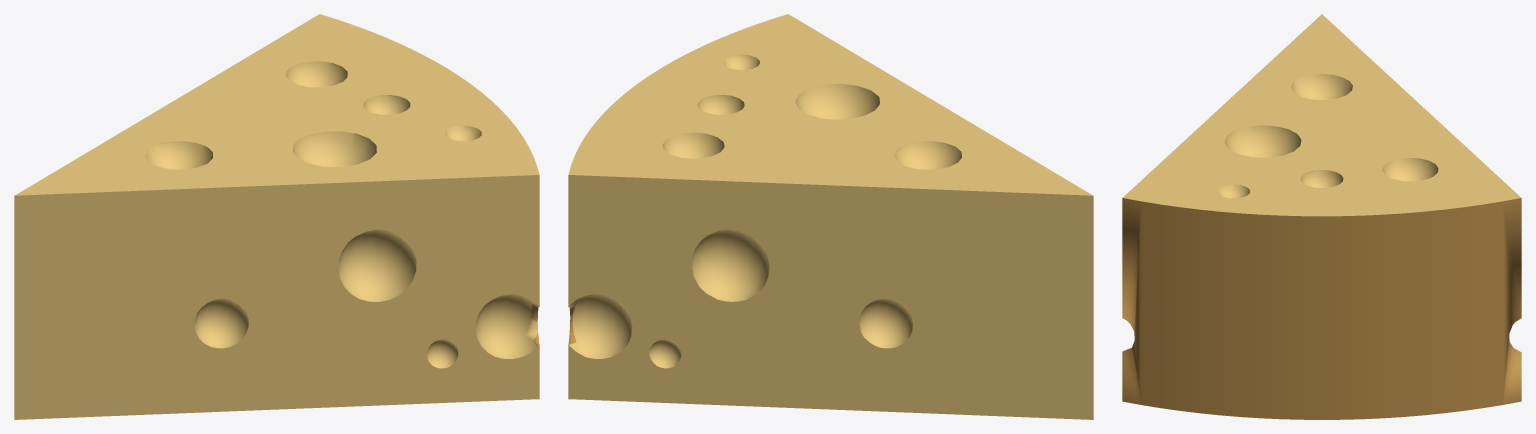
3 renders of one model, left to right at view 1: azimuth 30°, elevation 25°; view 2: azimuth 150°, elevation 25°; view 3: azimuth 270°, elevation 25°, orthographic. The views are drawn at different scales.
Visible parts, largest first — view 1: NEW307_SwissCheese_LOD2; view 2: NEW307_SwissCheese_LOD2; view 3: NEW307_SwissCheese_LOD2.
Part boxes in pixels (x1=…): NEW307_SwissCheese_LOD2: x1=14, y1=14, x2=539, y2=419; NEW307_SwissCheese_LOD2: x1=568, y1=14, x2=1093, y2=419; NEW307_SwissCheese_LOD2: x1=1122, y1=14, x2=1521, y2=419.
Size of the model in its own units: 0.13 by 0.061 by 0.1084.
